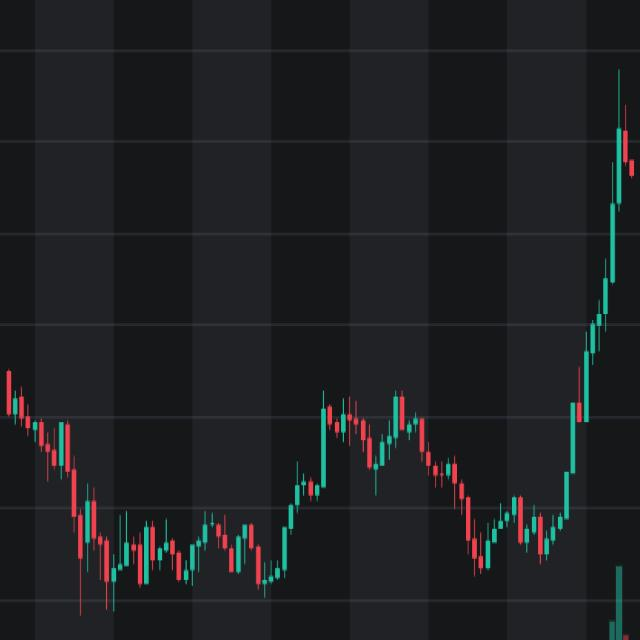Resistance-breakout: (270, 83, 636, 595)
